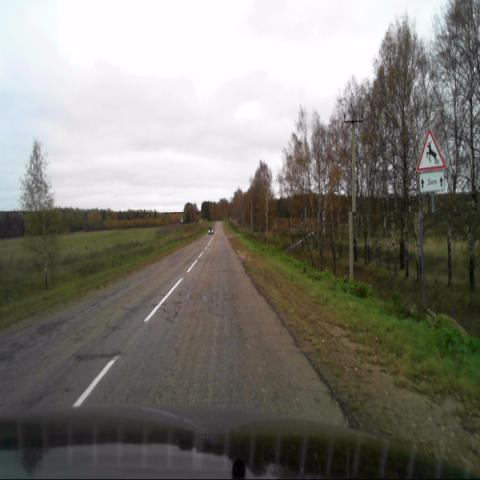1_27: (417, 127, 446, 171)
